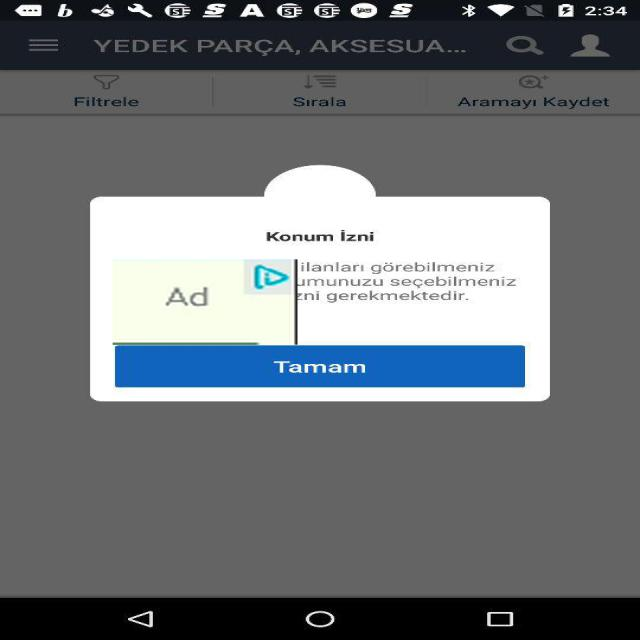sneaking: (112, 259, 298, 345)
